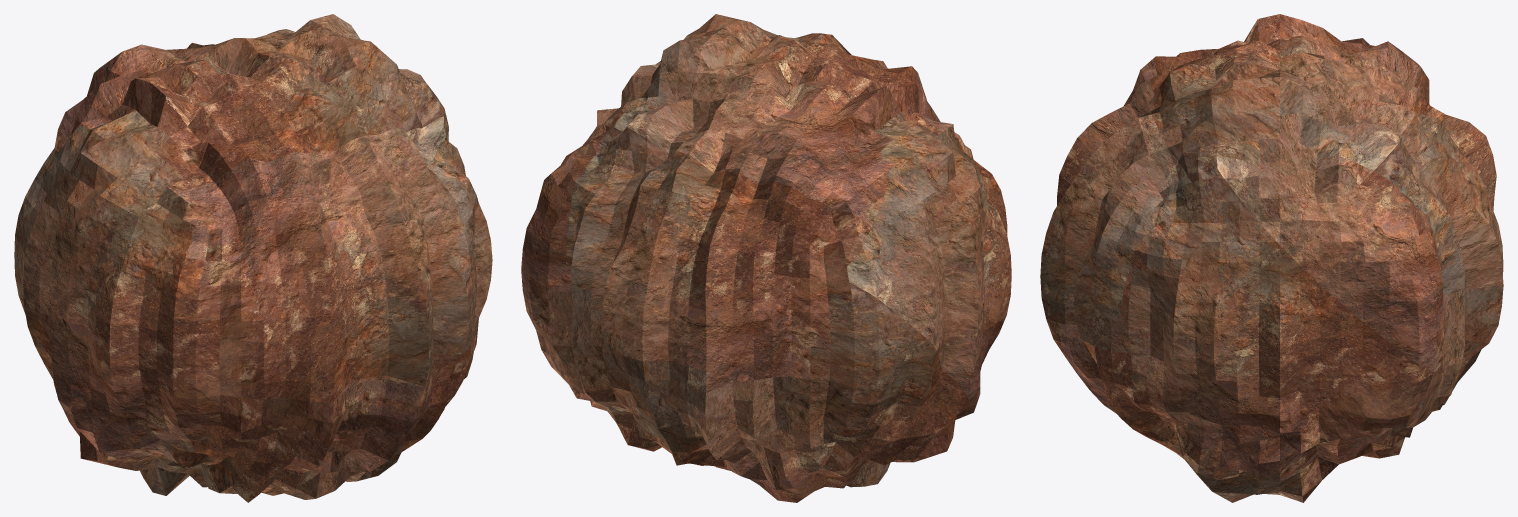
File: asteroid144.obj
The picture shows the model from 3 angles, left to right: view 1: azimuth 30°, elevation 25°; view 2: azimuth 150°, elevation 25°; view 3: azimuth 270°, elevation 25°; orthographic projection. The views are drawn at different scales.
Parts seen in each view (by area): view 1: Cube_Cube.002; view 2: Cube_Cube.002; view 3: Cube_Cube.002.
Boxes of the visible parts, left/top/right/bottom form: Cube_Cube.002: left=14, top=14, right=492, bottom=502; Cube_Cube.002: left=521, top=14, right=1011, bottom=502; Cube_Cube.002: left=1040, top=14, right=1503, bottom=502.
Bounding box in the file's own units: 1.74 × 1.79 × 1.8.
